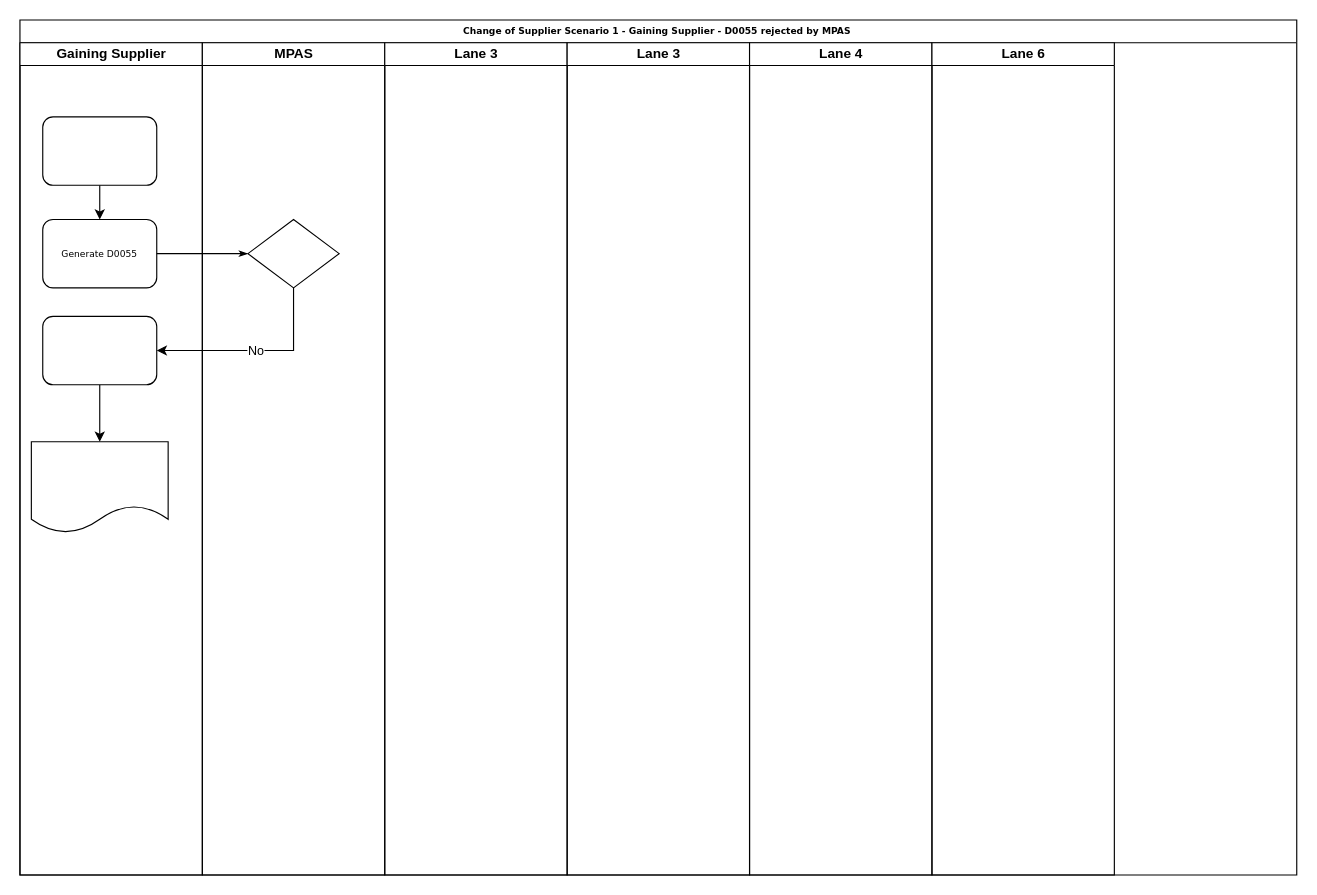
This 1317x895 diagram has some shape labels left out. The shapes that lost their labels are listed below. From the top down, each one's centre as x and y in pixels, then its label:
the point at 99,150: Recover quote or enter customer details
the point at 293,253: Accept D0055?
the point at 99,350: Receive D0057
the point at 99,487: Generate Exception Report
